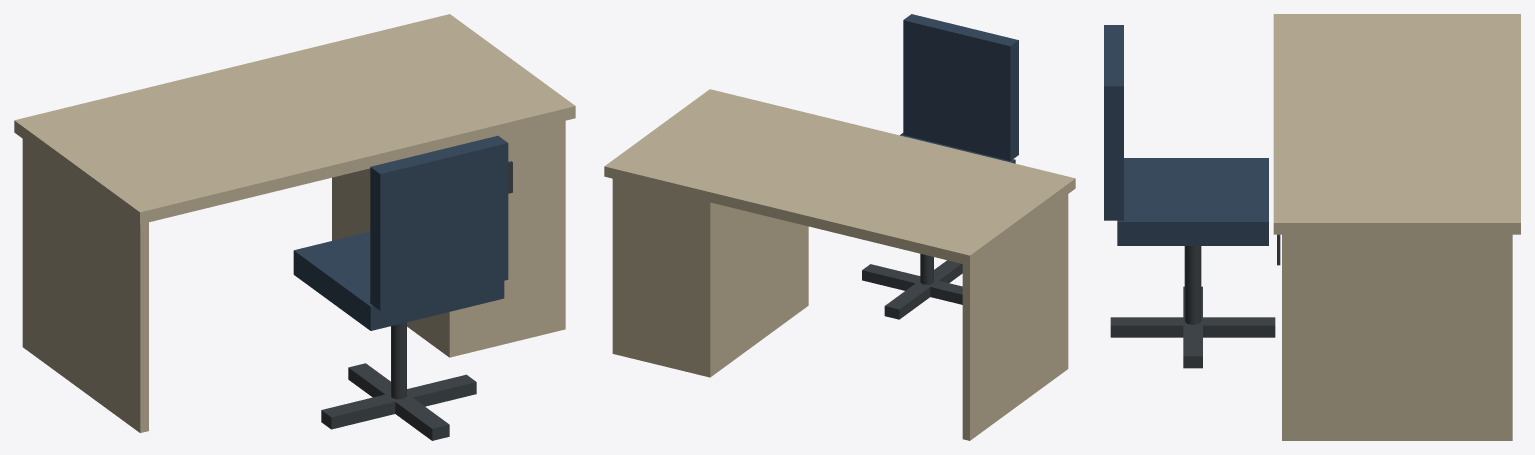
Rendered from desk-1990s.glb.
3 renders of one model, left to right at view 1: azimuth 30°, elevation 25°; view 2: azimuth 150°, elevation 25°; view 3: azimuth 270°, elevation 25°, orthographic. The views are drawn at different scales.
Visible parts, largest first — view 1: kit-desk; view 2: kit-desk; view 3: kit-desk.
Part boxes in pixels (x1,y1,x2,y2): kit-desk: (14,14,575,440); kit-desk: (604,14,1075,440); kit-desk: (1104,14,1520,440).
Bounding box in the file's own units: 1.5 × 0.95 × 1.27.
